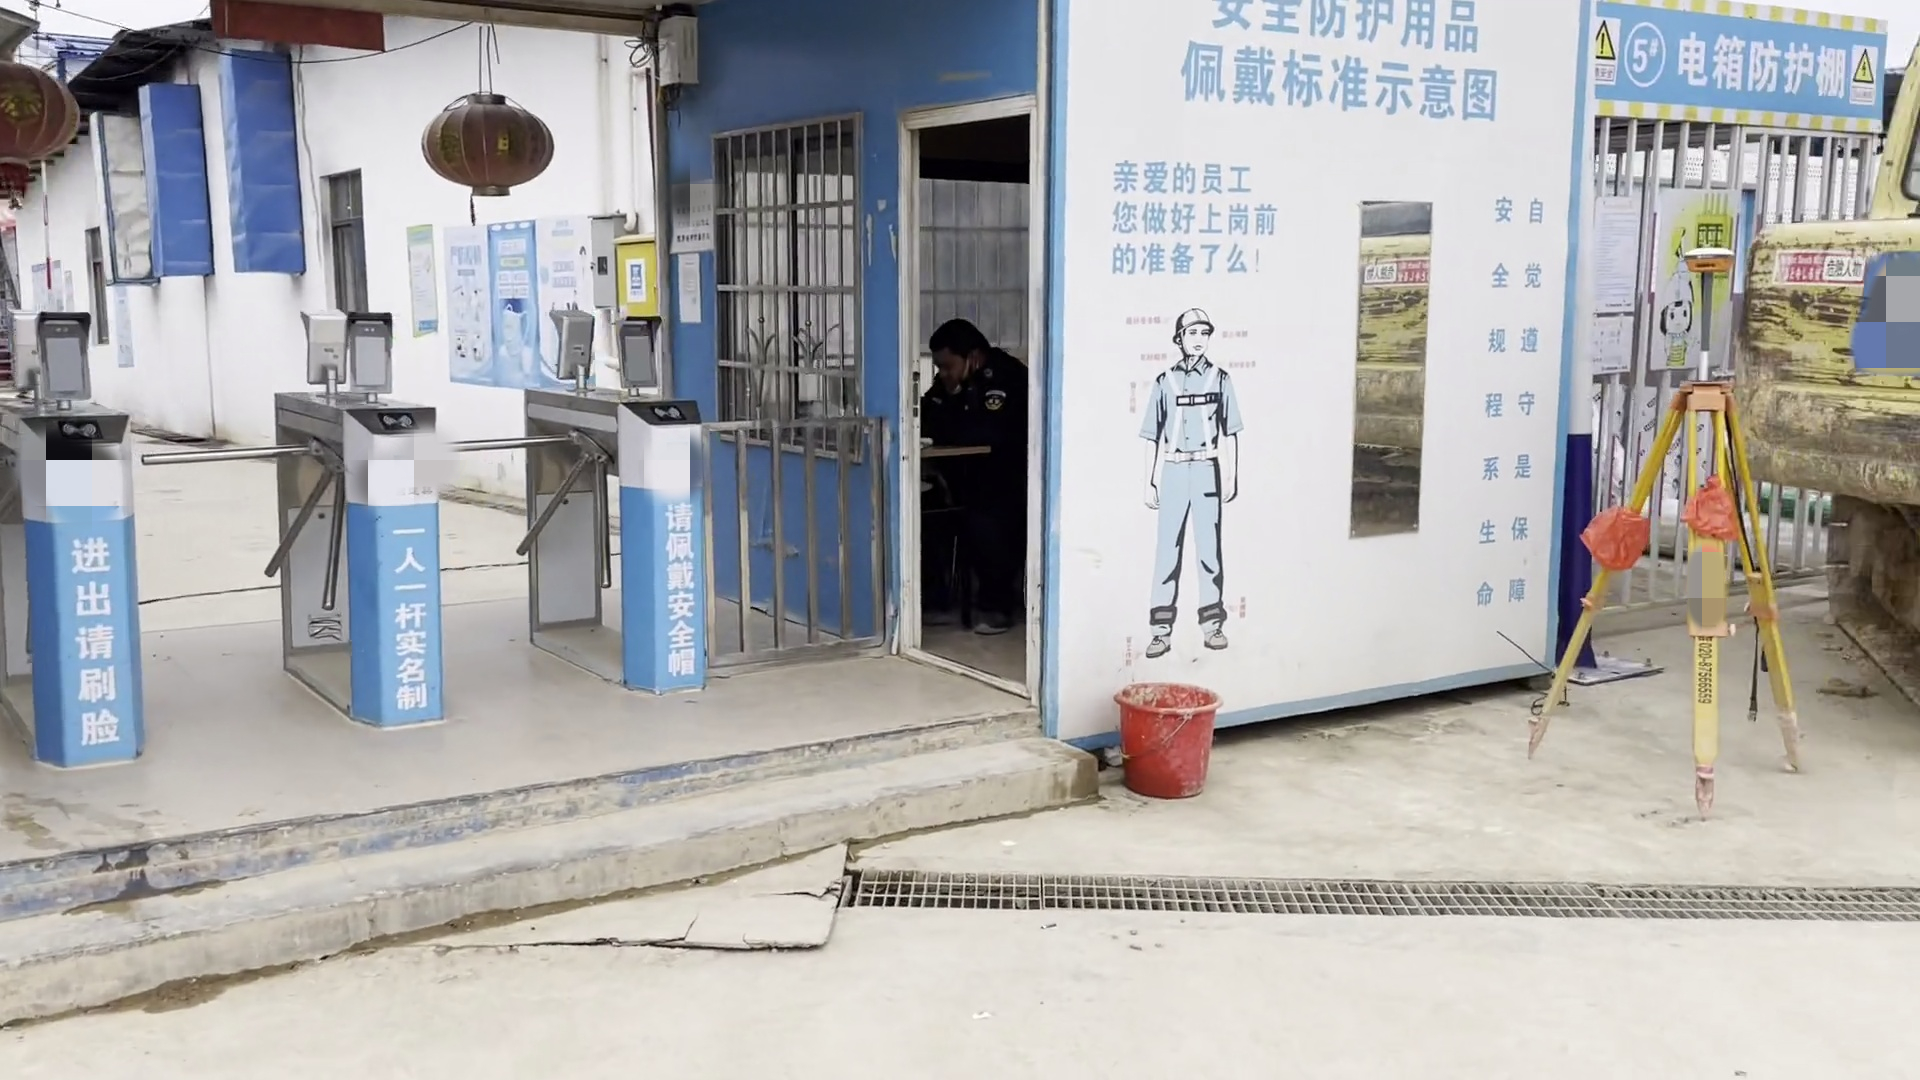slogan: (41, 529, 125, 764), (628, 491, 705, 709), (357, 520, 434, 713)
